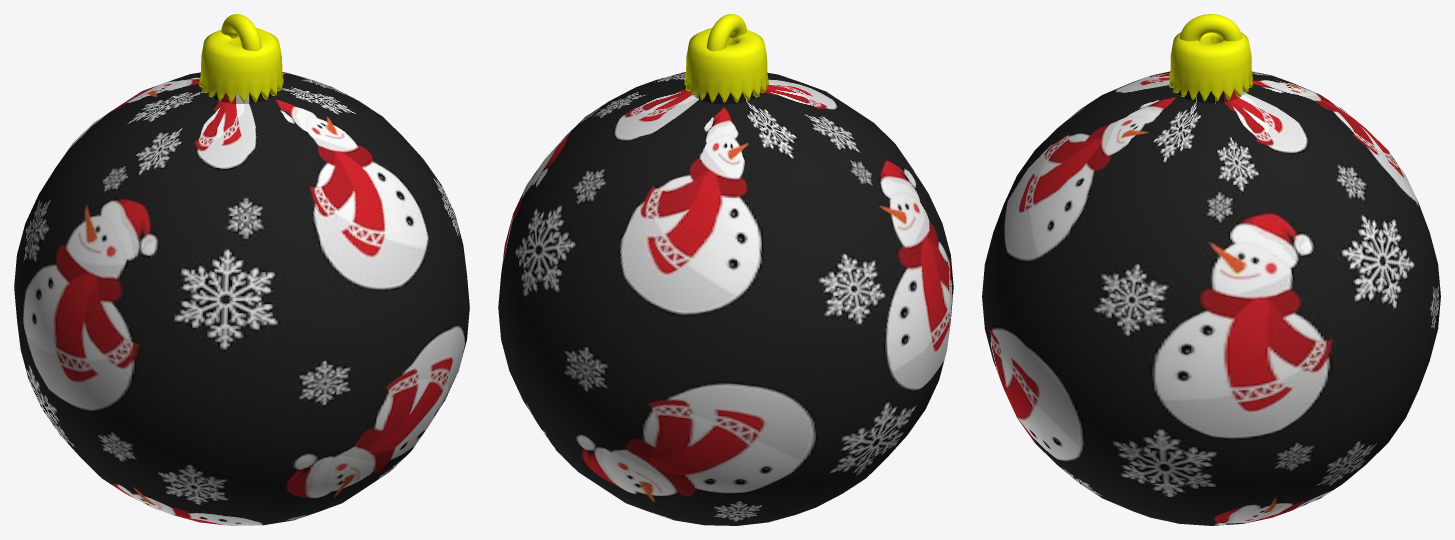
The model's file is Foco.obj.
3 views of the same model, side by side, from view 1: azimuth 30°, elevation 25°; view 2: azimuth 150°, elevation 25°; view 3: azimuth 270°, elevation 25° (orthographic).
Visible parts, largest first — view 1: Foco:Glass_Ball1Red_Bulb, Foco:Red_Bulbtop_crownpPipe2, Foco:Red_BulbpTorus1top_crown; view 2: Foco:Glass_Ball1Red_Bulb, Foco:Red_Bulbtop_crownpPipe2, Foco:Red_BulbpTorus1top_crown; view 3: Foco:Glass_Ball1Red_Bulb, Foco:Red_Bulbtop_crownpPipe2, Foco:Red_BulbpTorus1top_crown.
Part boxes in pixels (bbox=[...]): Foco:Glass_Ball1Red_Bulb: bbox=[14, 72, 469, 525]; Foco:Red_Bulbtop_crownpPipe2: bbox=[199, 28, 283, 103]; Foco:Red_BulbpTorus1top_crown: bbox=[221, 14, 261, 51]; Foco:Glass_Ball1Red_Bulb: bbox=[498, 72, 953, 525]; Foco:Red_Bulbtop_crownpPipe2: bbox=[684, 28, 768, 103]; Foco:Red_BulbpTorus1top_crown: bbox=[706, 14, 746, 51]; Foco:Glass_Ball1Red_Bulb: bbox=[982, 71, 1440, 525]; Foco:Red_Bulbtop_crownpPipe2: bbox=[1169, 32, 1252, 101]; Foco:Red_BulbpTorus1top_crown: bbox=[1179, 14, 1242, 41].
Size of the model in its own units: 13.51 by 15.9 by 13.51.
